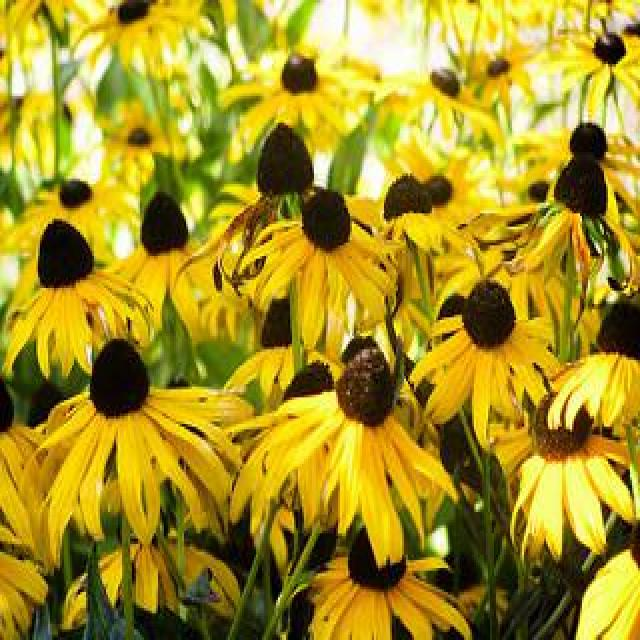sunflower: (244, 342, 468, 558), (34, 343, 258, 540), (0, 216, 164, 371), (256, 184, 410, 339), (506, 385, 640, 551), (420, 276, 554, 423), (508, 149, 640, 296), (299, 528, 471, 640), (105, 189, 223, 312), (221, 47, 379, 137), (542, 11, 640, 112), (392, 48, 504, 128), (17, 171, 135, 232)
